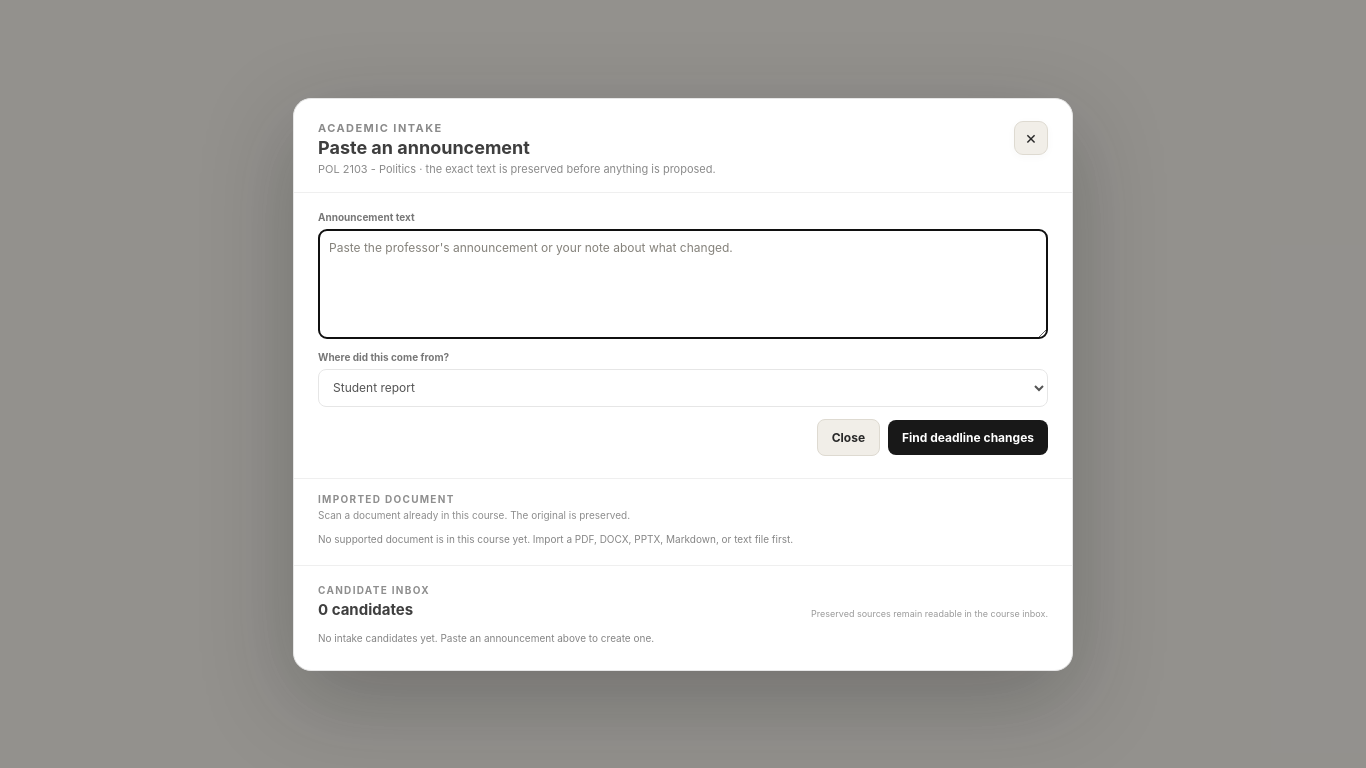
Scenario: IntakeDialog › recovers from a double approval by loading the already verified changeset
Replace the text in the text box labelled "Announcement text" with "My professor moved the Second Essay deadline to November 20." at [683, 284], box left=318, top=228, right=1048, bottom=338
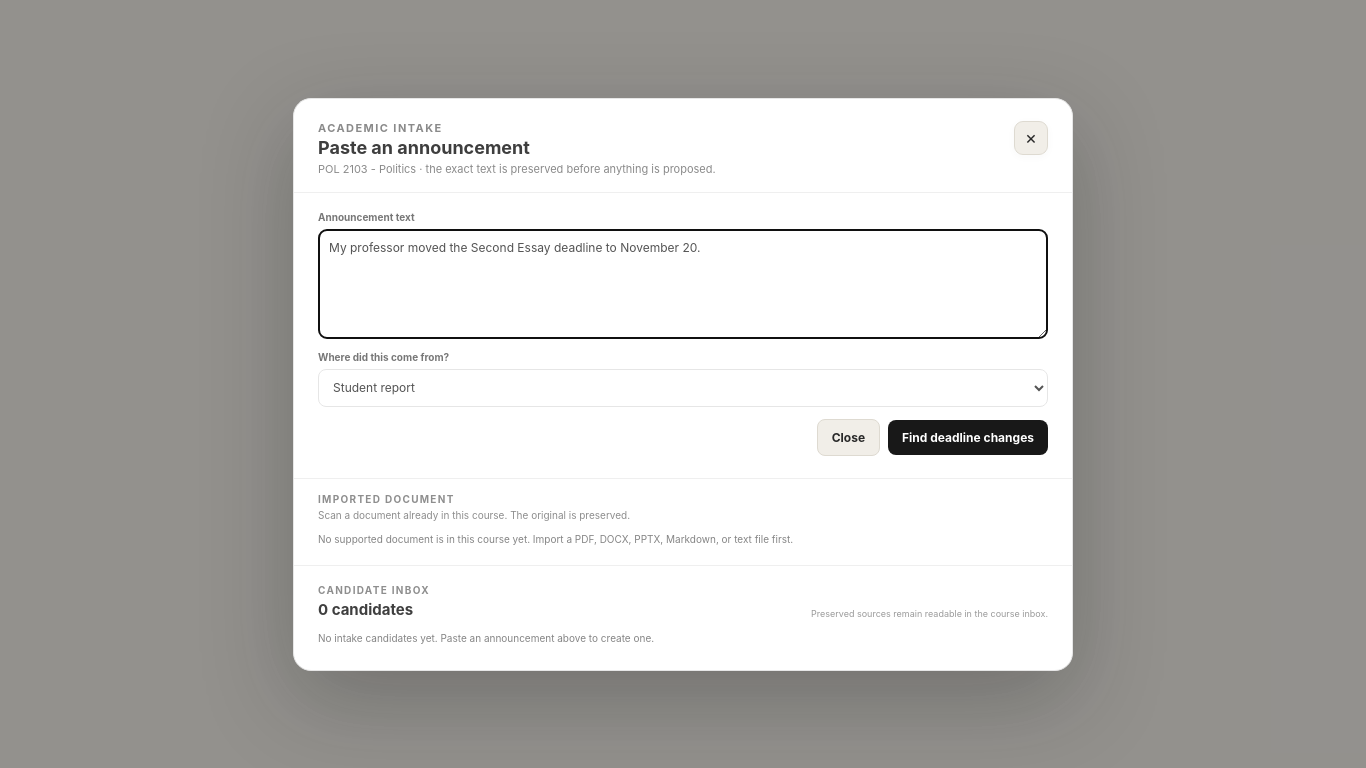
Click the button "Find deadline changes" at [968, 437], box left=888, top=420, right=1048, bottom=454
(page scrolled)
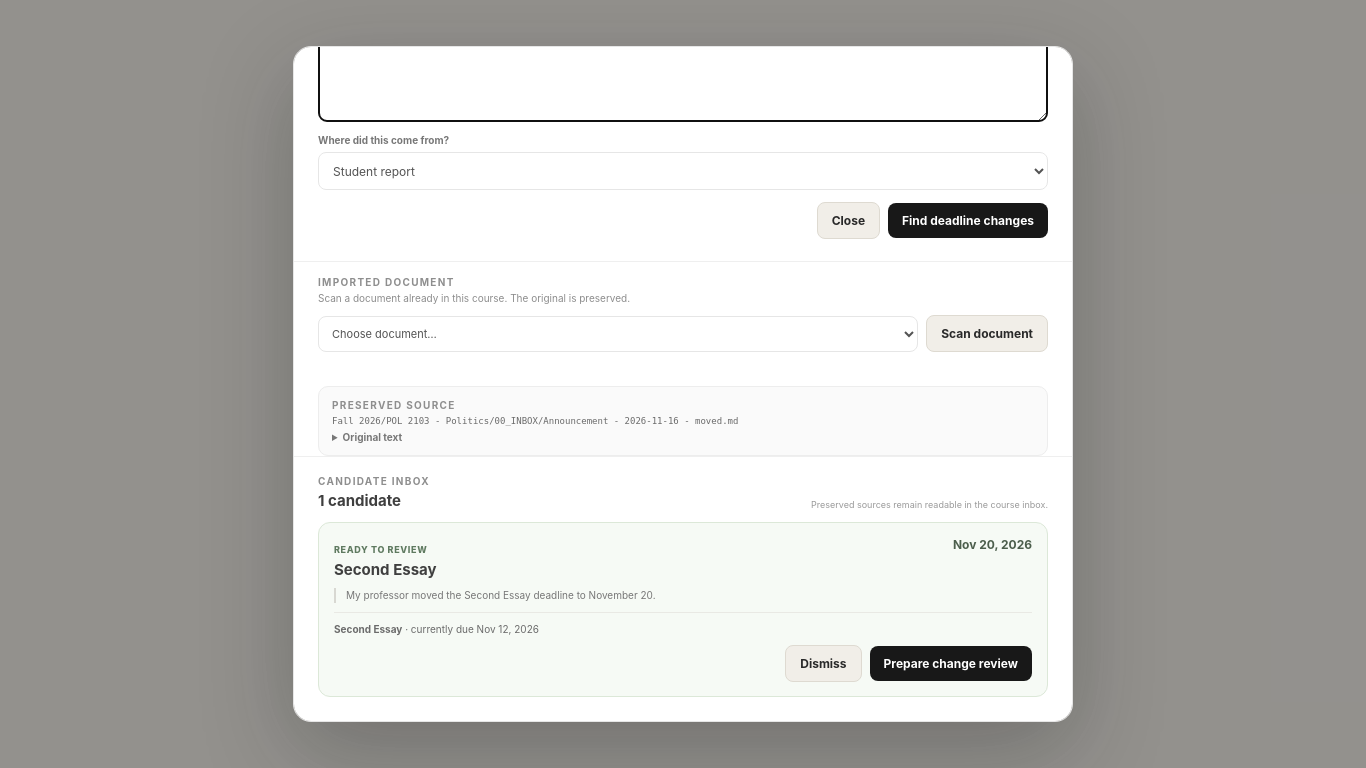
Expected: the heading "Second Essay" is shown, left=334, top=560, right=436, bottom=579
Click the button "Prepare change review" at [951, 664], box left=870, top=646, right=1032, bottom=681
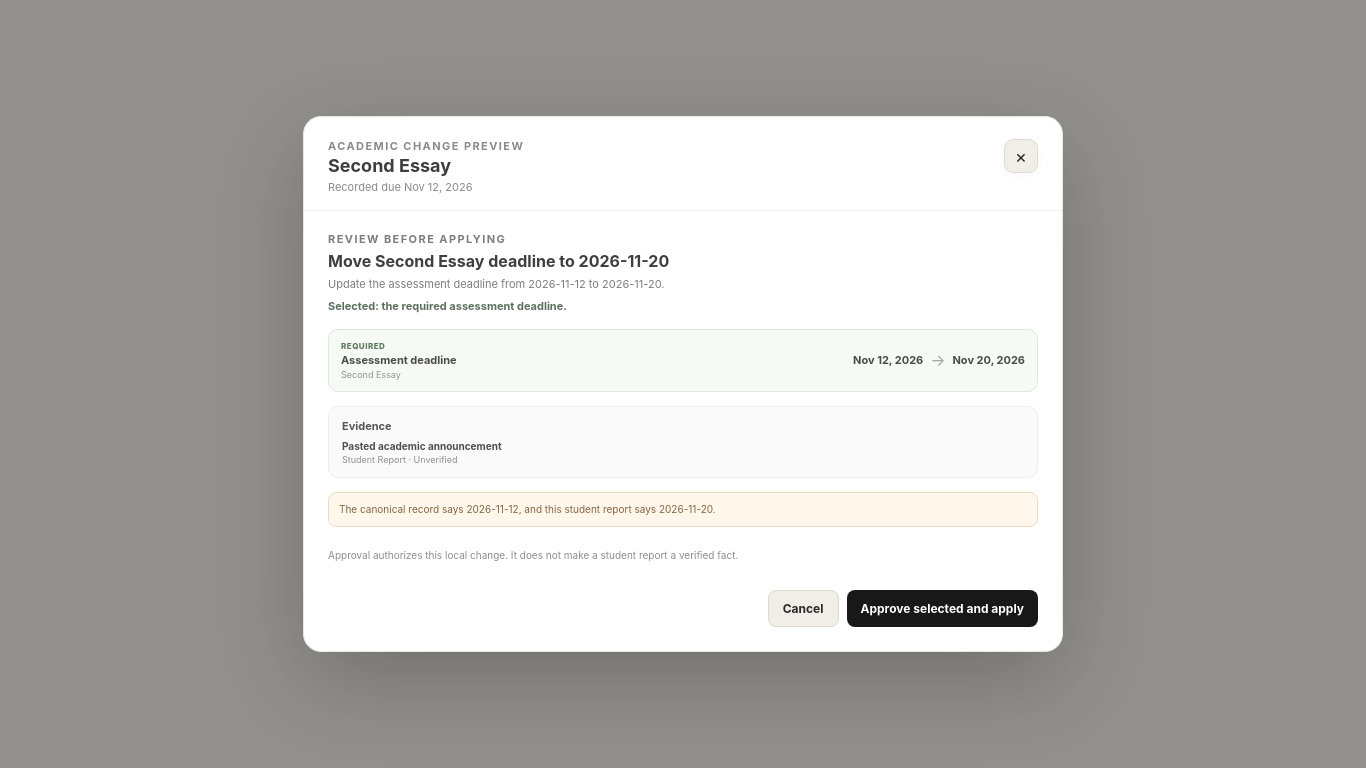
Expected: the button "Approve selected and apply" is shown
Click the button "Approve selected and apply" at [942, 608], box left=846, top=590, right=1038, bottom=627
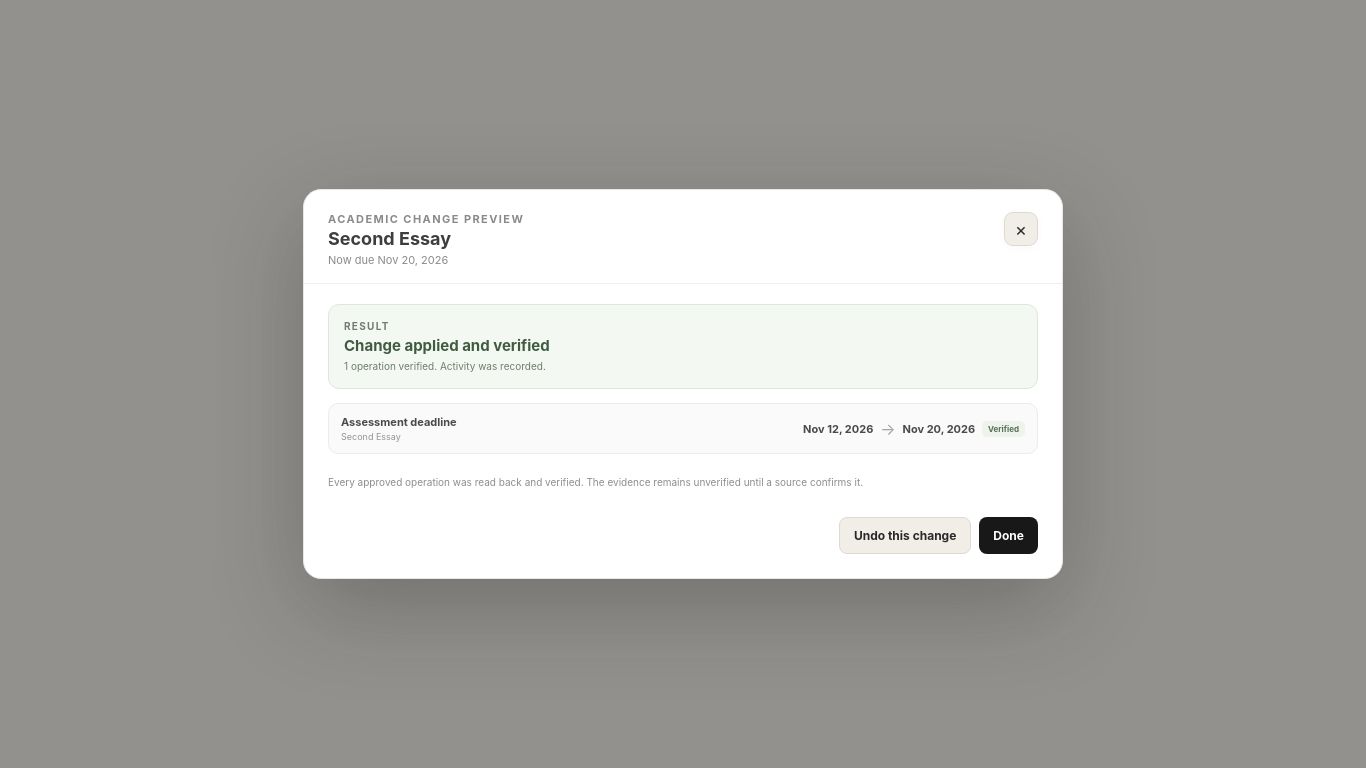
Expected: the heading "Change applied and verified" is shown, left=344, top=336, right=550, bottom=355
